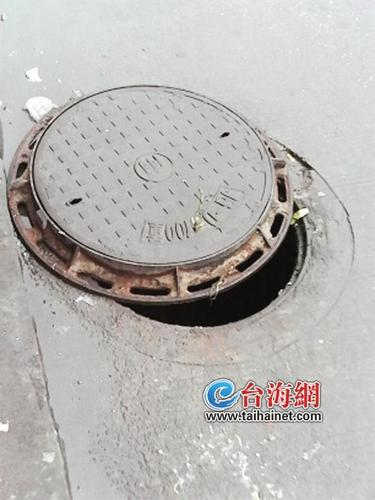uncovered: (9, 68, 344, 353)
